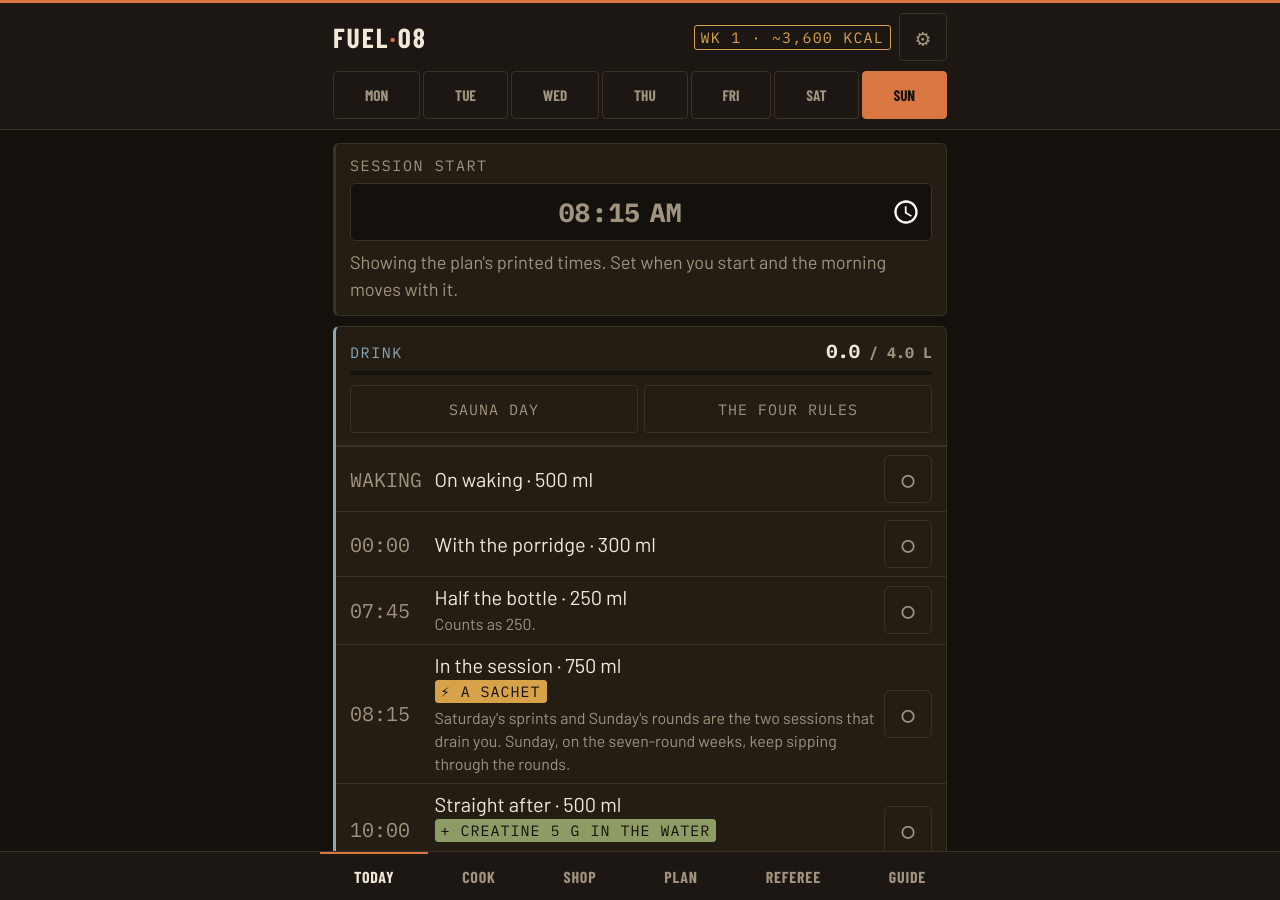
Scenario: Fuel · Optimal 8 Fighter › holds when arms are up and the waist is flat
Click the button "REFEREE": click(793, 876) 732,852 -> 855,899
(page scrolled)
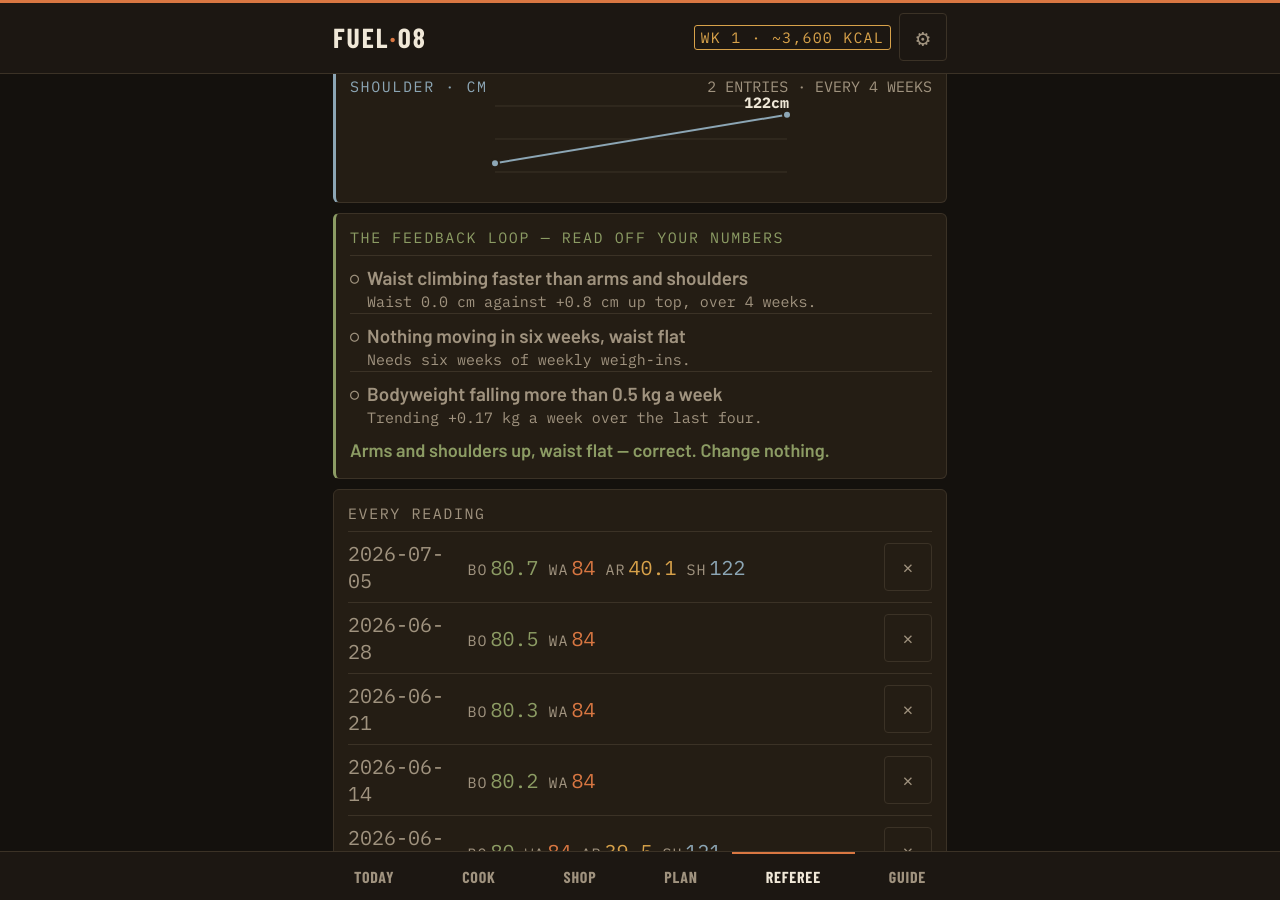
Result: the text "Arms and shoulders up, waist flat — correct. Change nothing." is shown at 350,439 -> 830,461
